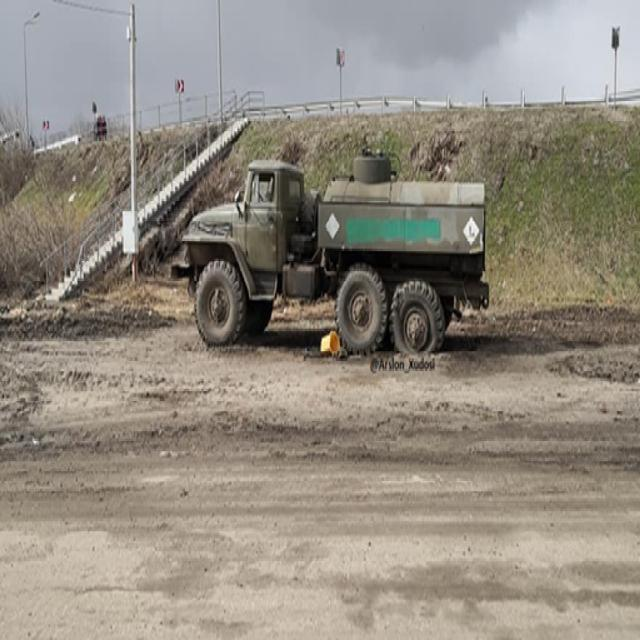TRUCK: (170, 140, 494, 360)
